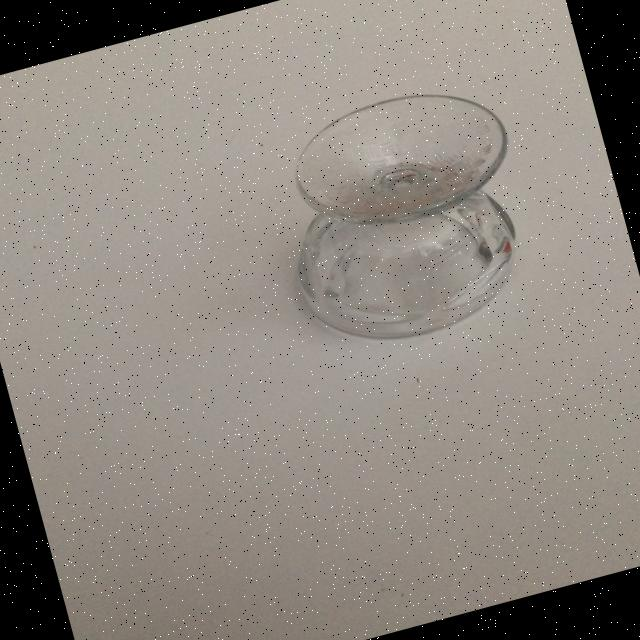glass: (257, 70, 551, 362)
